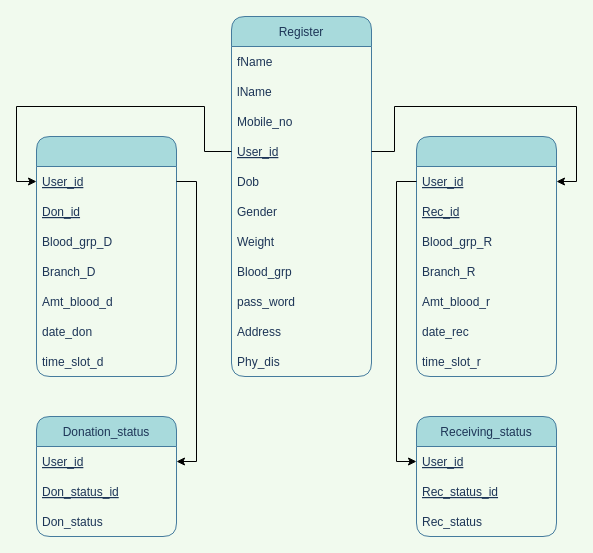
This 593x553 diagram has some shape labels left out. Each missing label, with the box of its shape:
Donation_details: (36, 136, 176, 376)
Receiving_details: (416, 136, 556, 376)
